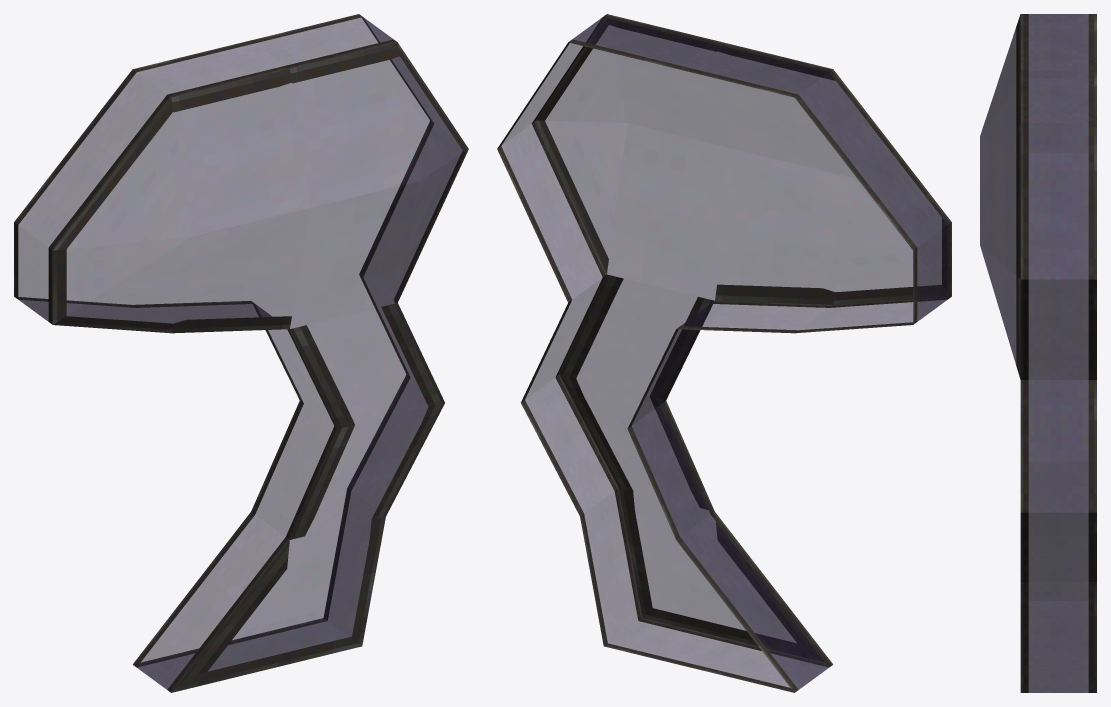
3 views of the same model, side by side, from view 1: azimuth 30°, elevation 25°; view 2: azimuth 150°, elevation 25°; view 3: azimuth 270°, elevation 25° (orthographic).
Parts seen in each view (by area): view 1: Slim_obj_078; view 2: Slim_obj_078; view 3: Slim_obj_078.
Boxes of the visible parts, box(x1,y1,x2,y2) form: Slim_obj_078: box(14, 14, 468, 692); Slim_obj_078: box(497, 14, 951, 692); Slim_obj_078: box(980, 14, 1096, 692).
Size of the model in its own units: 0.6172 by 0.8438 by 0.1523.
Materials: 1 (1 with a texture image).
